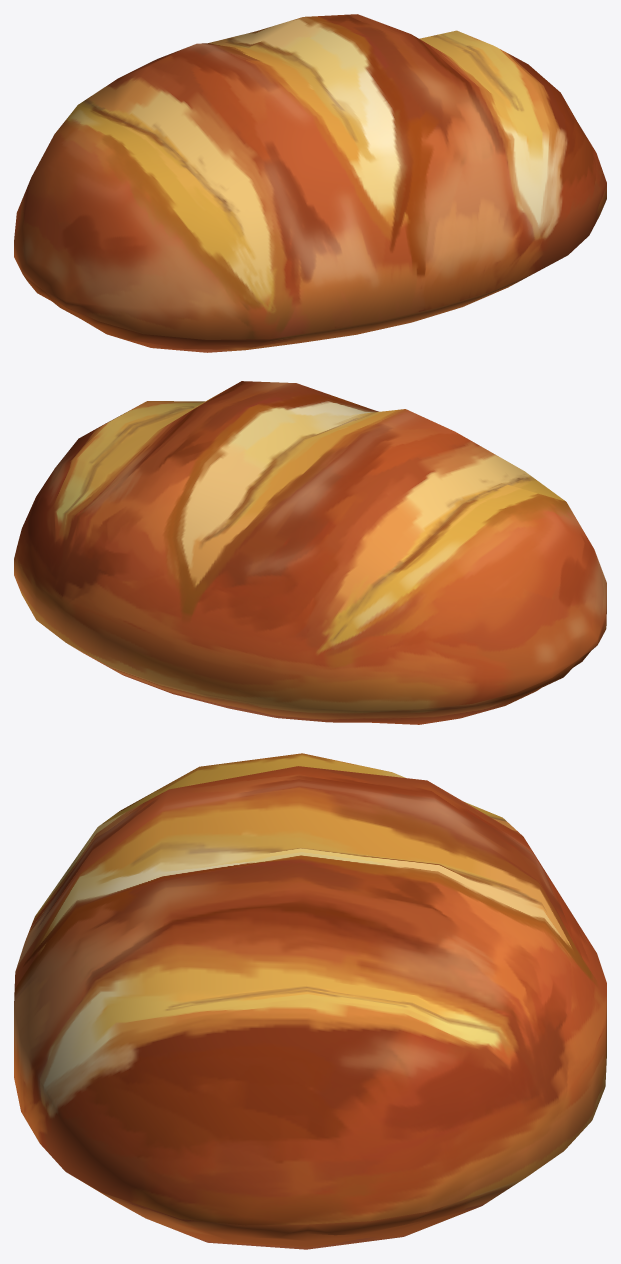
File: bread.glb
3 renders of one model, top to bottom at view 1: azimuth 30°, elevation 25°; view 2: azimuth 150°, elevation 25°; view 3: azimuth 270°, elevation 25°, orthographic. The views are drawn at different scales.
Parts seen in each view (by area): view 1: Object_2; view 2: Object_2; view 3: Object_2.
Part boxes in pixels (<box>): Object_2: <box>14,14,606,352</box>; Object_2: <box>14,381,606,724</box>; Object_2: <box>14,753,606,1249</box>.
Bounding box in the file's own units: 1.95 × 0.8458 × 1.41.
Materials: 1 (1 with a texture image).
